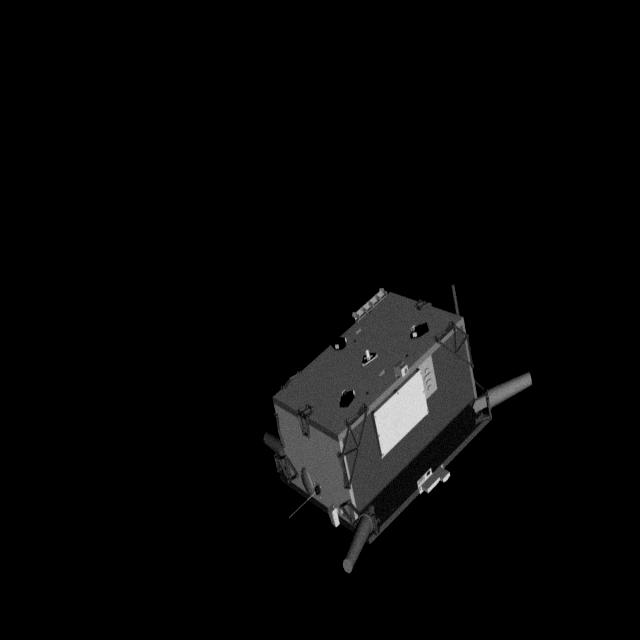medium_debris: (232, 276, 562, 582)
